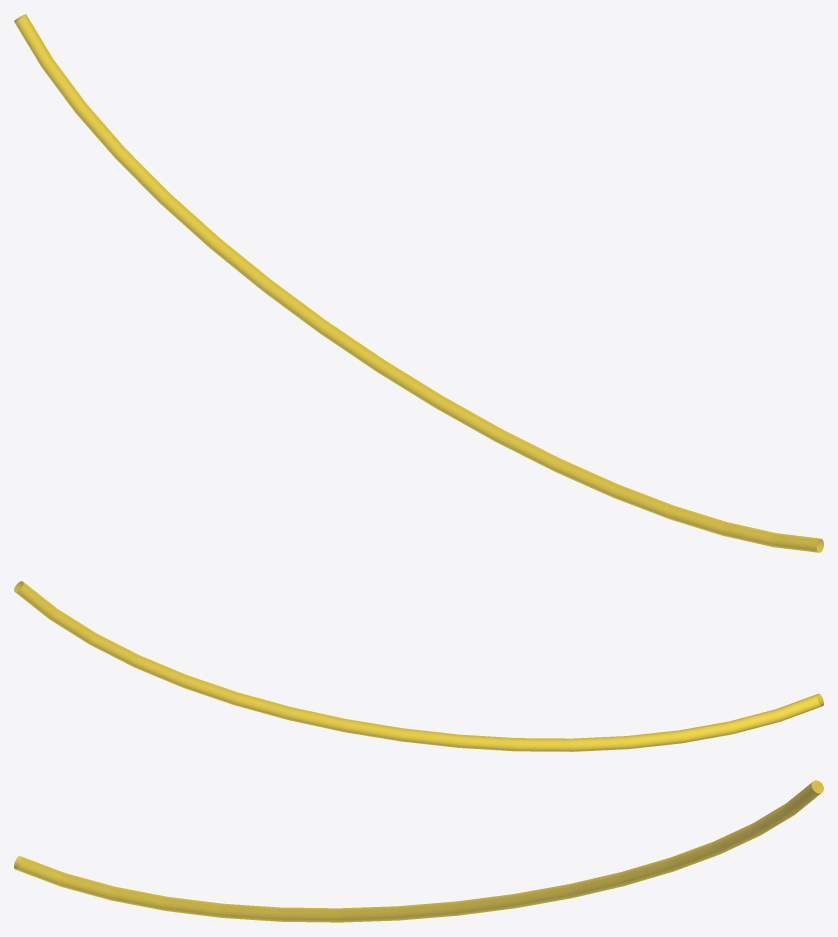
File: Event_419990632_track_19.fbx
3 views of the same model, one above another, from view 1: azimuth 90°, elevation 25°; view 2: azimuth 150°, elevation 25°; view 3: azimuth 270°, elevation 25° (orthographic). The views are drawn at different scales.
Visible parts, largest first — view 1: Model; view 2: Model; view 3: Model.
Boxes of the visible parts, bbox=[...] form: Model: bbox=[14, 14, 823, 552]; Model: bbox=[14, 581, 823, 751]; Model: bbox=[14, 780, 823, 922].
Bounding box in the file's own units: 1.52 × 0.9805 × 2.25.
